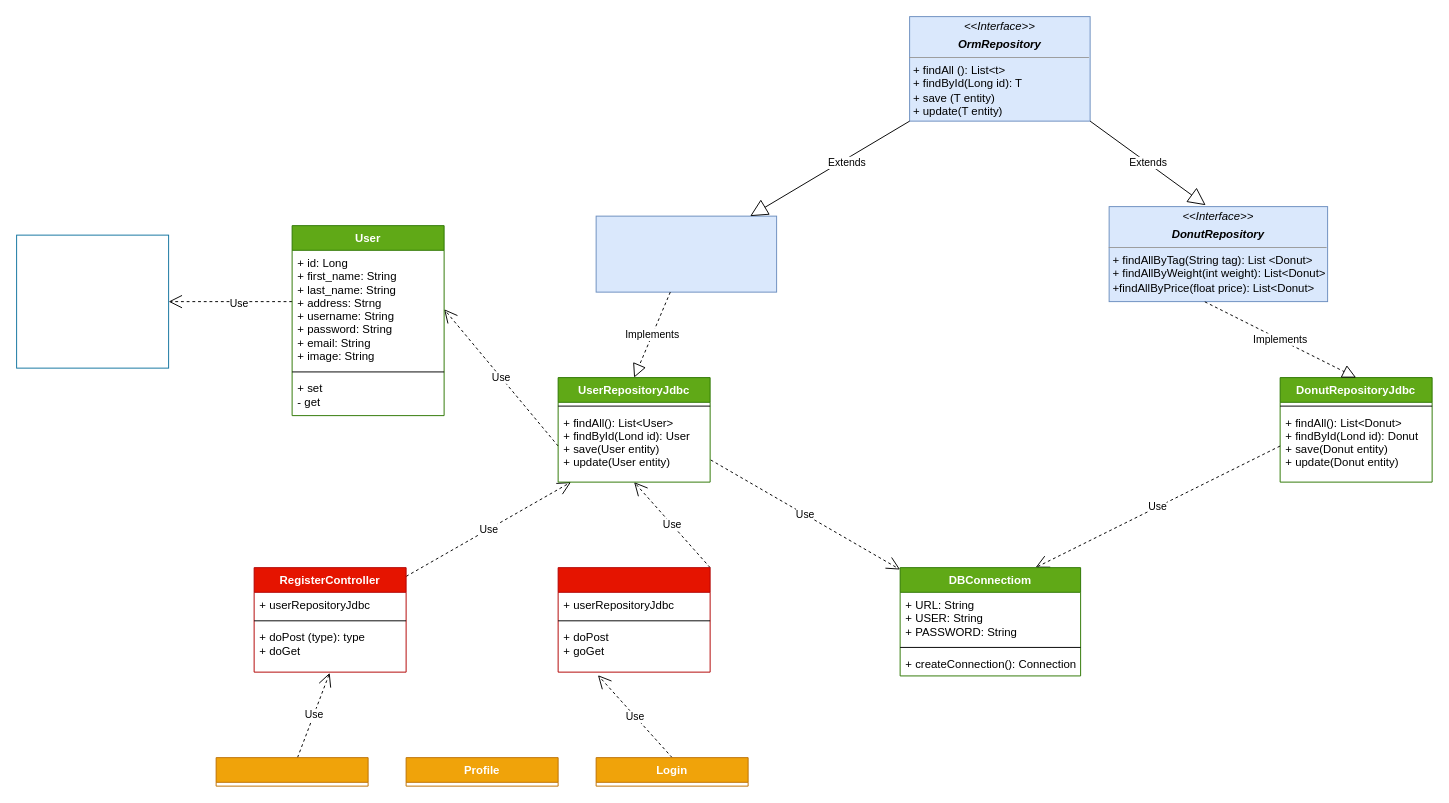
Image size: 1449x803. Some labels were removed from this diagram. The shapes that lost their labels are listed below. From the top down, each one's box as (x1, y1, x2, y2) in pixels, then its label:
(595, 215, 777, 292): <<Interface>> UserRepository
(16, 234, 169, 368): user_table PK user_id first_name last_name address username password email image
(557, 567, 710, 672): LoginController
(215, 757, 368, 786): Register
